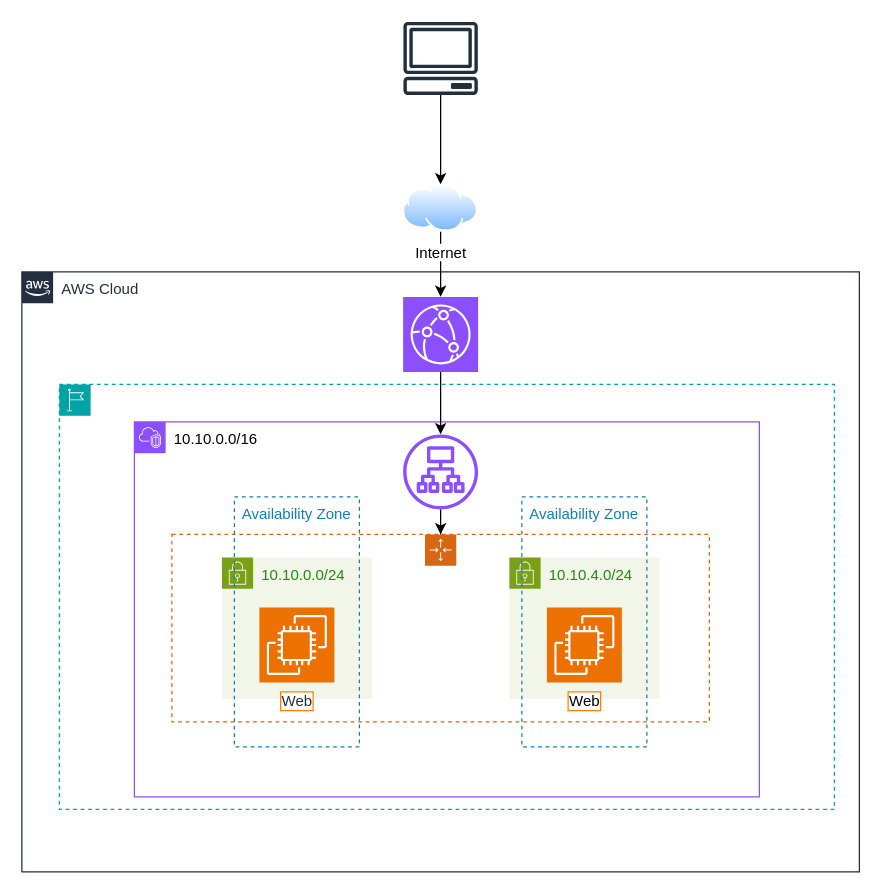
The diagram is 881 pixels wide and 894 high, and some of its shapes have lost their labels. The shapes that lost their labels are listed below. From the top down, each one's box as (x1, y1, x2, y2) in pixels, then its label:
(402, 21, 478, 94): Client
(402, 296, 478, 372): CloudFront
(402, 434, 478, 509): Application Load Balancer
(58, 383, 834, 809): Singapore
(171, 533, 709, 722): Auto Scaling group
